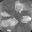people: (15, 1, 24, 14), (8, 18, 18, 27), (21, 15, 31, 23), (1, 19, 11, 27), (1, 11, 9, 18)
